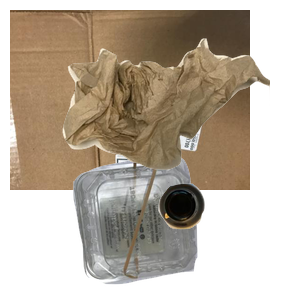cardboard: (10, 10, 250, 190)
glass: (156, 181, 300, 300)
plastic: (71, 154, 300, 300)
trash: (60, 36, 300, 198)
